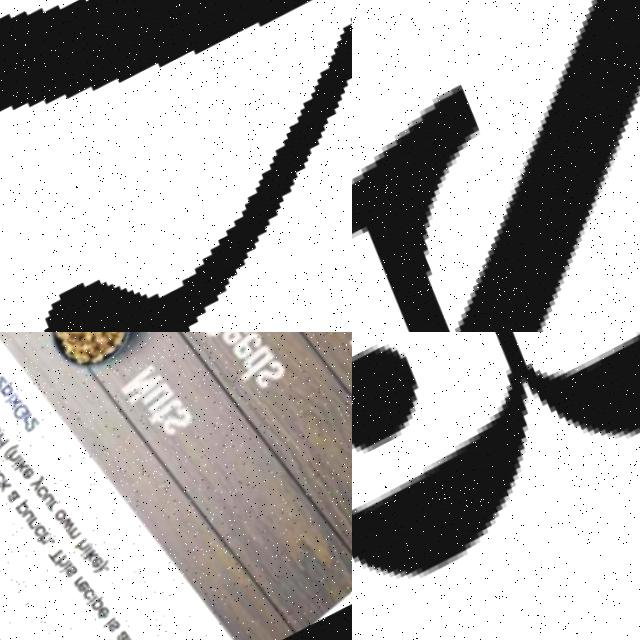2: (26, 417, 47, 436), (0, 375, 15, 394)
3: (352, 332, 640, 625)
V: (0, 0, 352, 332)
Z: (352, 0, 640, 332)
